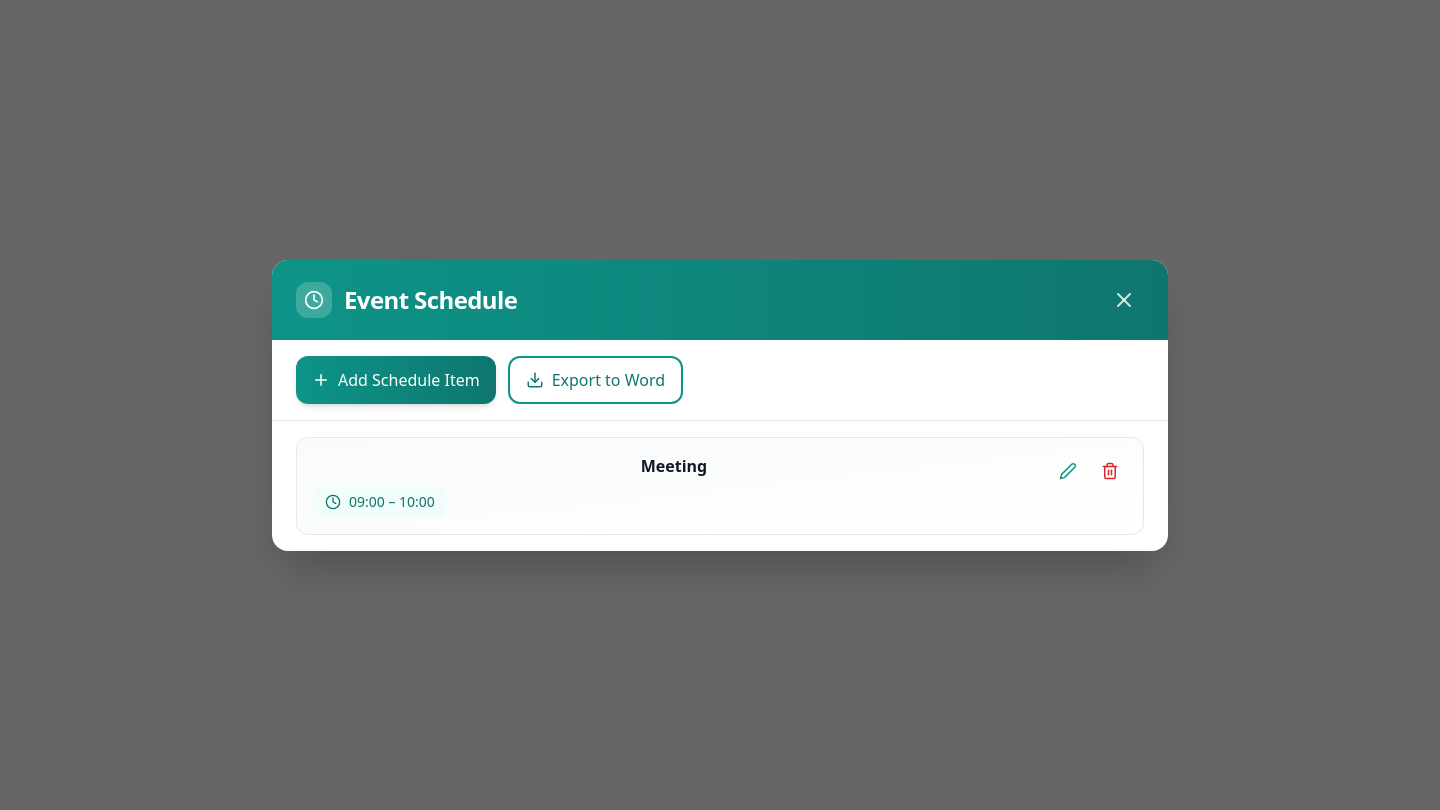
Test: ScheduleModal › cancels delete confirmation
Expected: the text "Meeting" is shown, [641, 454, 707, 476]
Click the button titled "Remove". click: (1110, 470)
box: [1093, 454, 1127, 488]
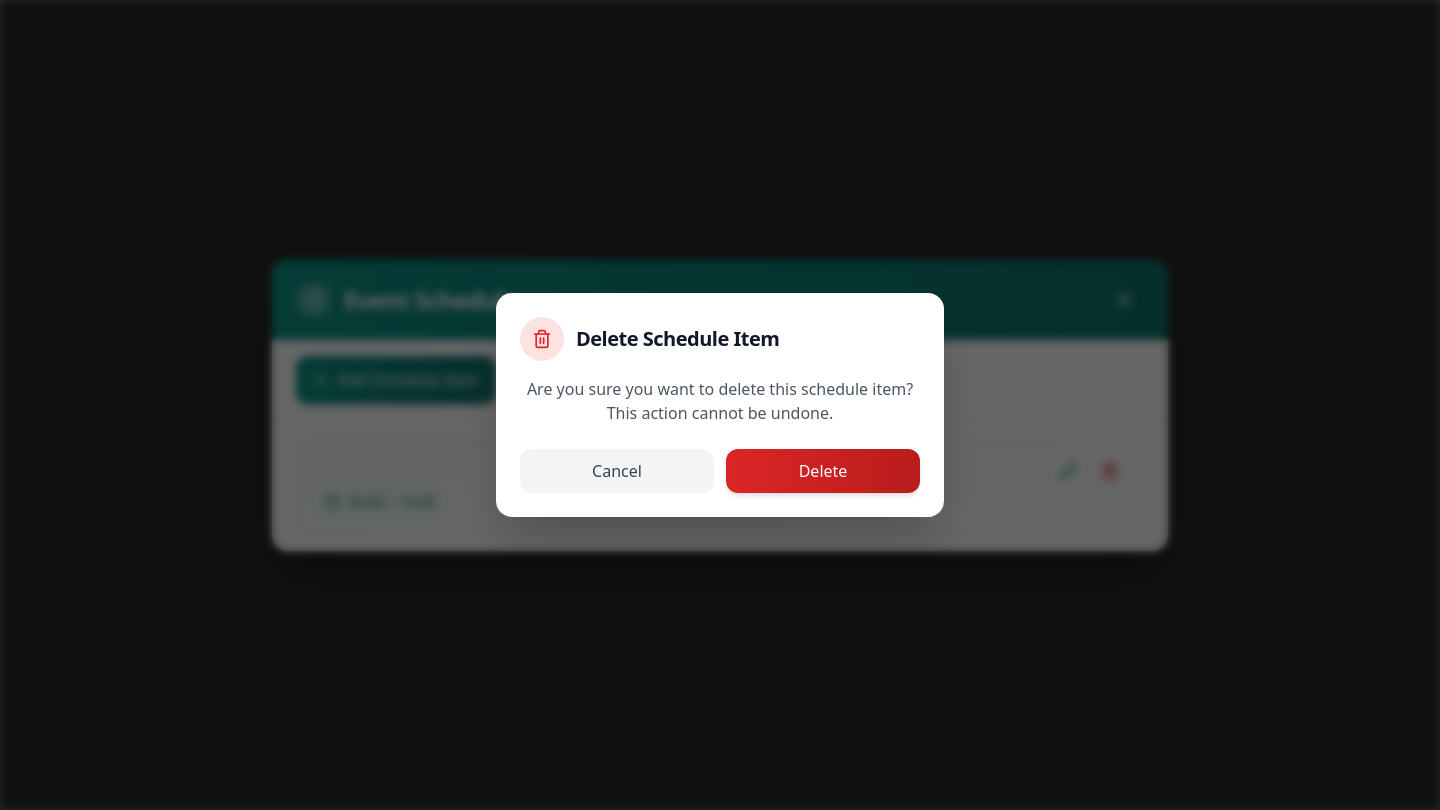
Result: the heading "Delete Schedule Item" is shown at [576, 325, 779, 353]
Click the button "Cancel". click: (617, 471)
box: [520, 449, 714, 493]
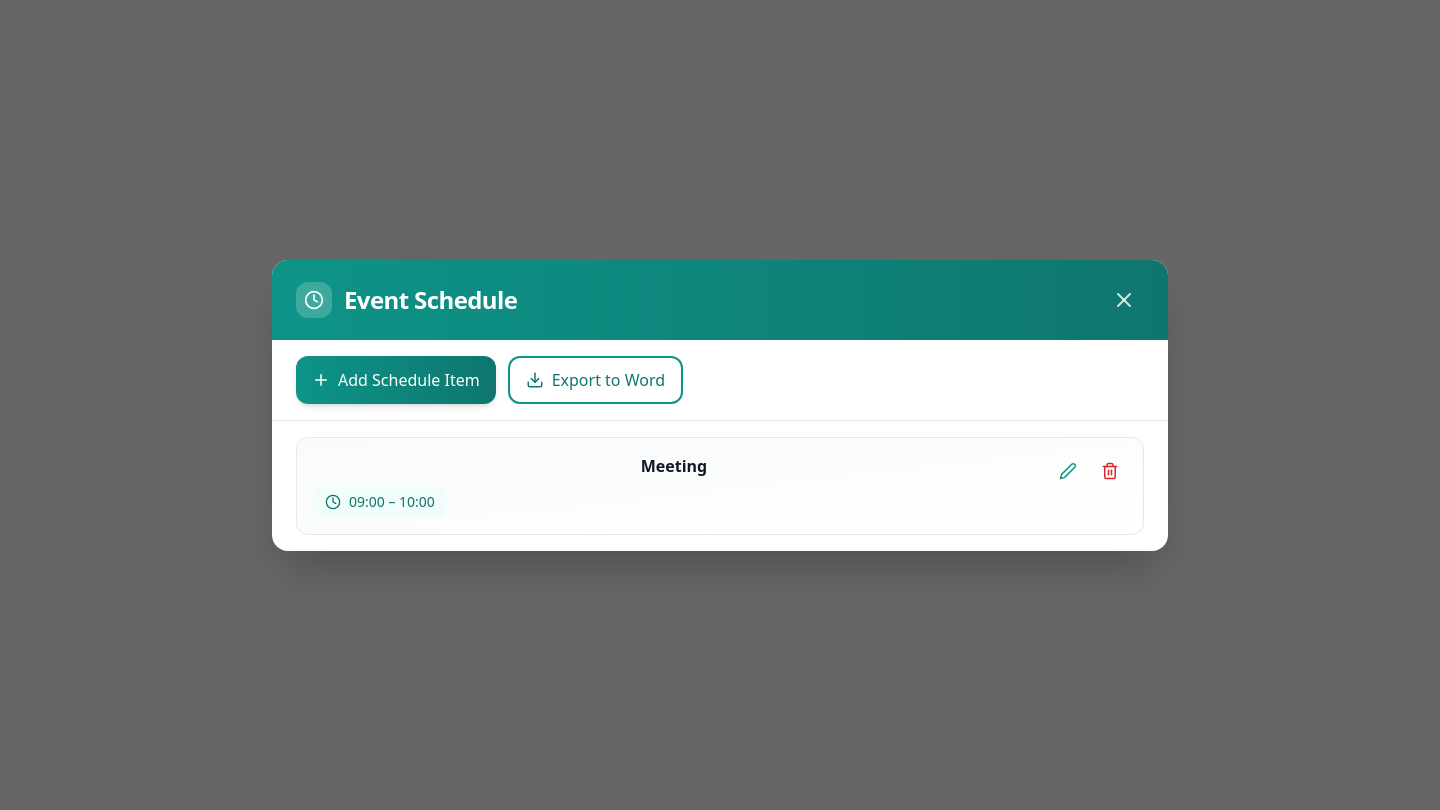
Result: the heading "Delete Schedule Item" is gone
